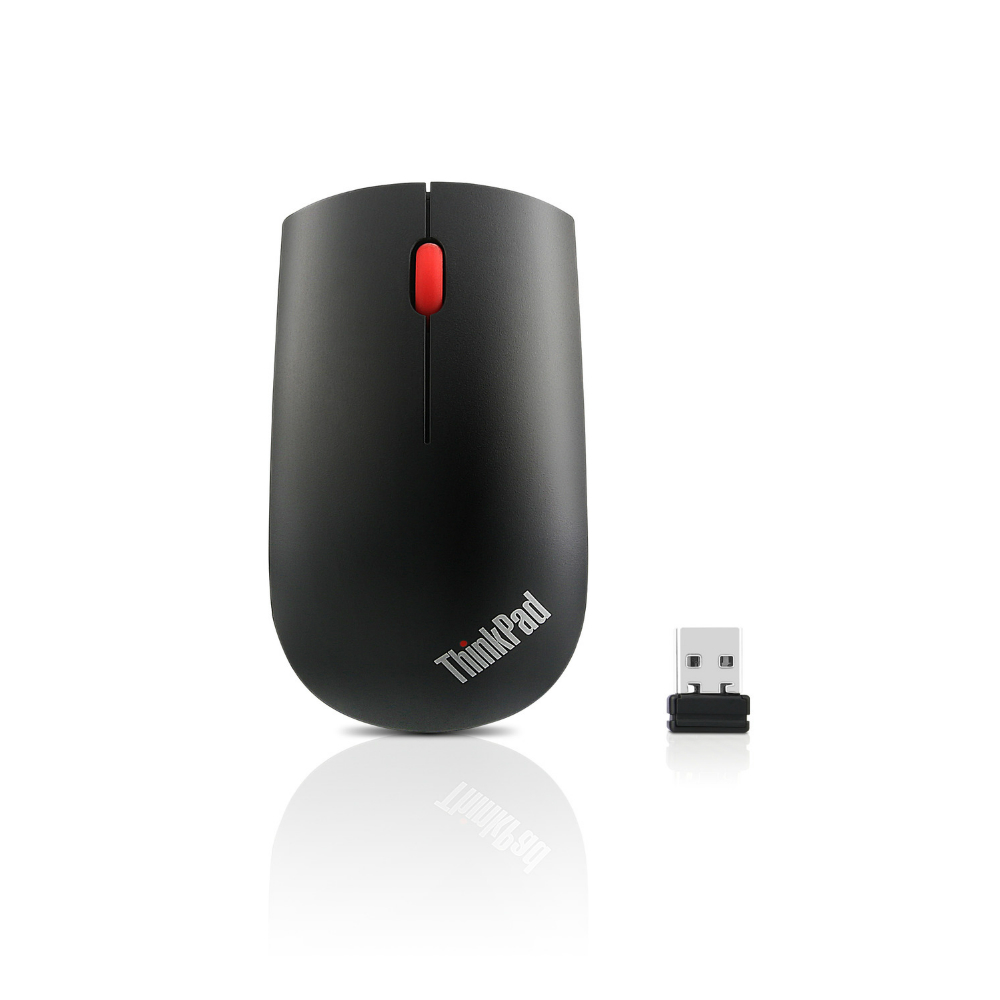Mouse: (257, 172, 601, 757)
